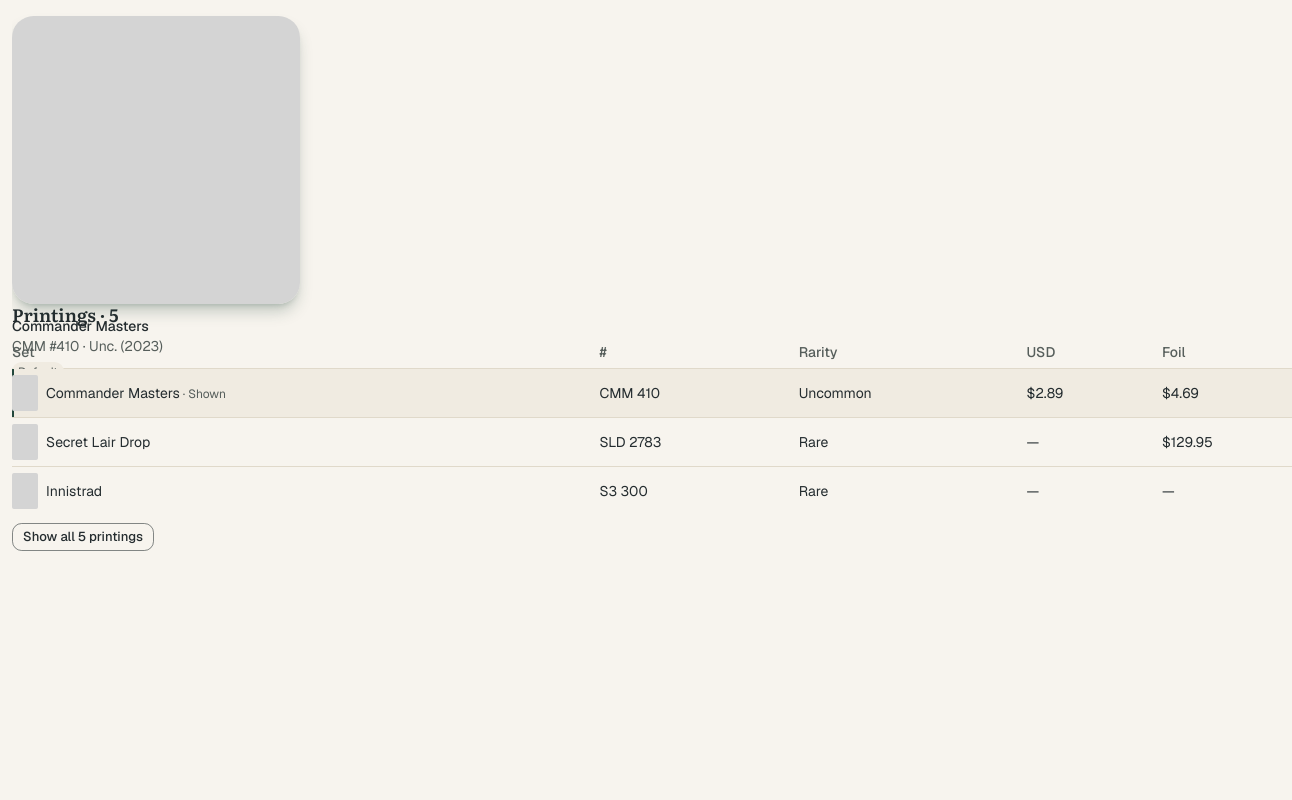
Test case: the tail › Show all fetches once, appends unseen rows, and the button goes away
The image size is (1292, 800).
Click the button "Show all 5 printings" at point(83, 537), box [12,523,154,551]
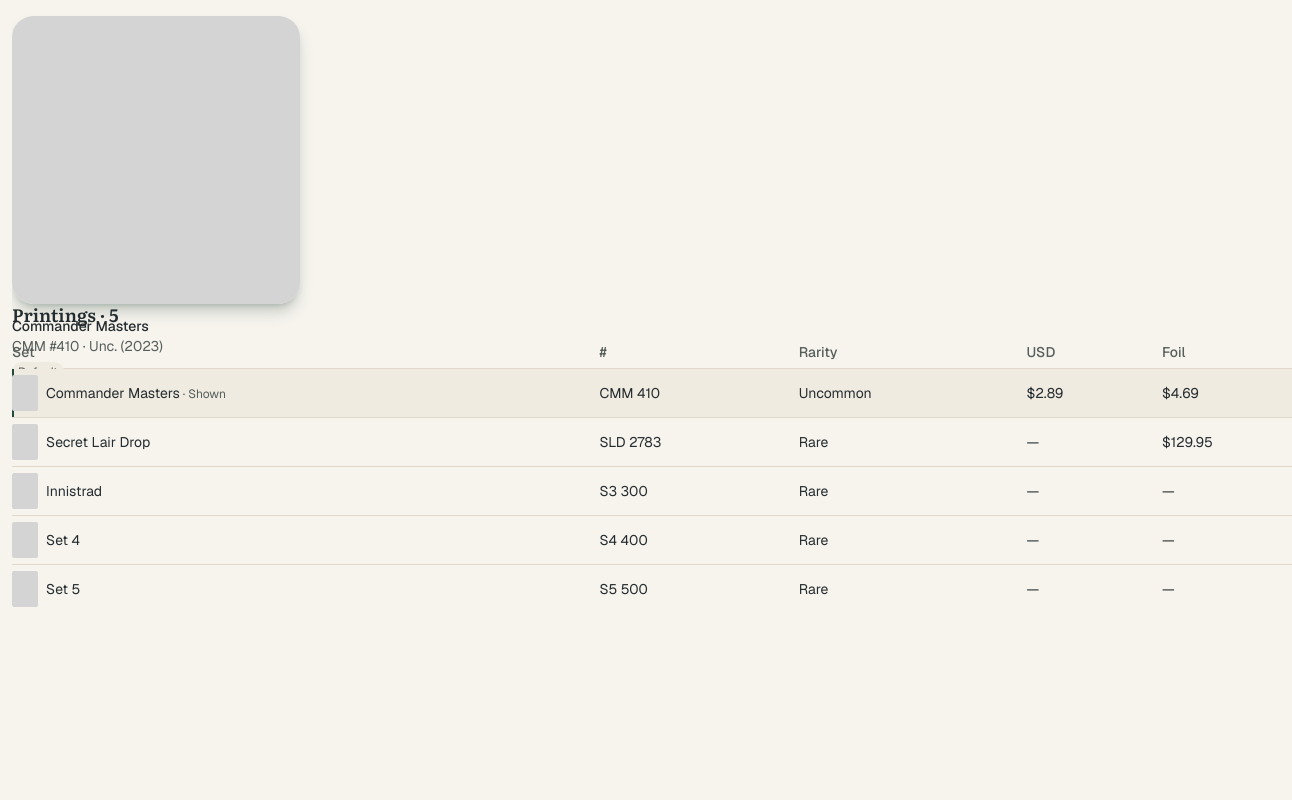
Check: the number of rows is 6, box [12,336,1291,368]; [12,368,1291,418]; [12,418,1291,466]; [12,466,1291,516]; [12,516,1291,564]; [12,564,1291,613]
Check: the button "Show all" is gone
